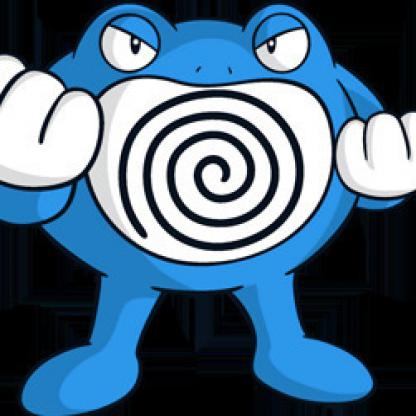Poliwrath: (1, 1, 416, 416)
